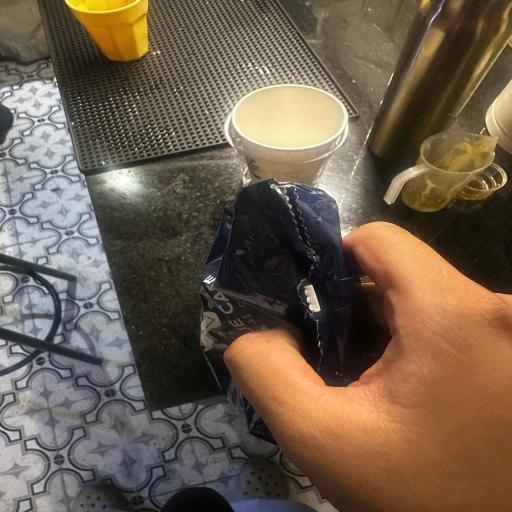cafe_hat: (199, 178, 405, 438)
